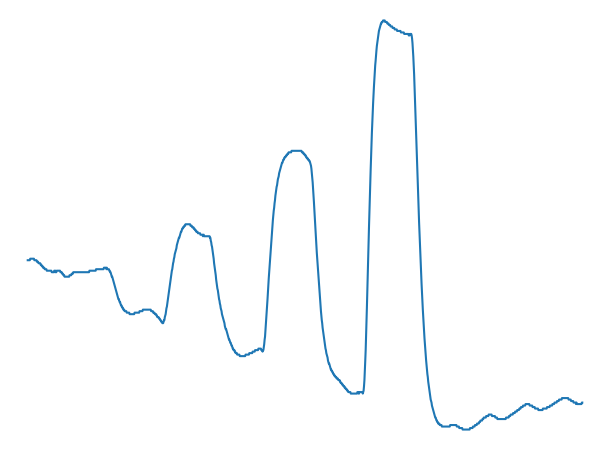decrease: (198, 227, 217, 256), (399, 24, 418, 49)
increase: (144, 280, 178, 328), (246, 333, 272, 361), (352, 371, 371, 399)
